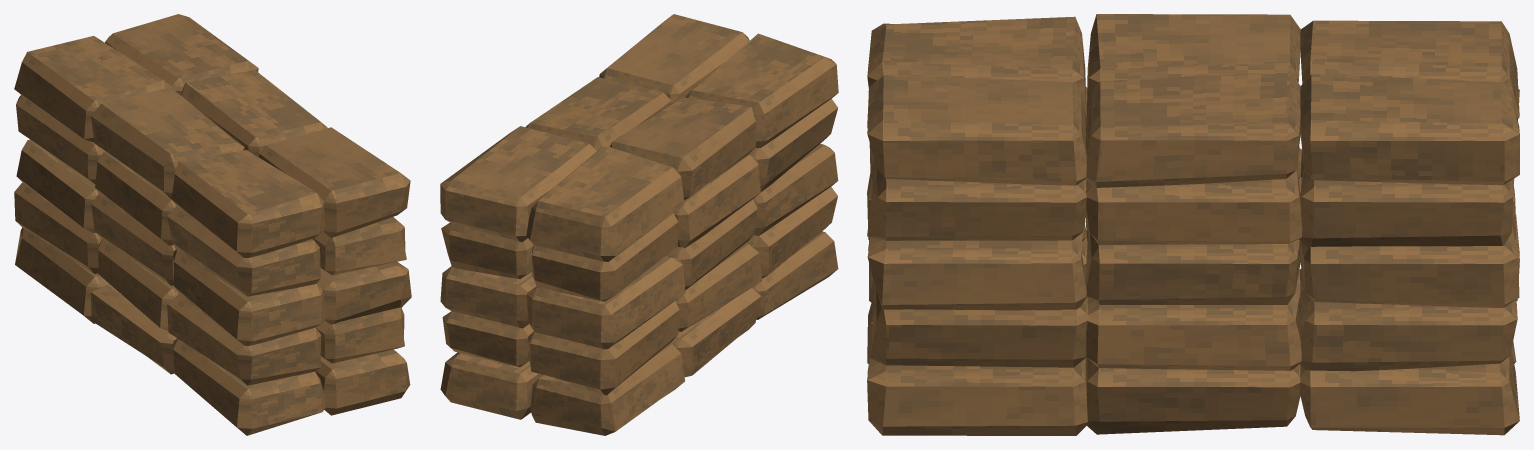
File: Sandbags.fbx
The picture shows the model from 3 angles, left to right: view 1: azimuth 30°, elevation 25°; view 2: azimuth 150°, elevation 25°; view 3: azimuth 270°, elevation 25°; orthographic projection. The views are drawn at different scales.
Parts seen in each view (by area): view 1: Cube; view 2: Cube; view 3: Cube.
Boxes of the visible parts, left/top/right/bottom form: Cube: left=14, top=14, right=411, bottom=435; Cube: left=440, top=14, right=838, bottom=435; Cube: left=867, top=14, right=1519, bottom=435.
Size of the model in its own units: 236 by 291 by 544.
